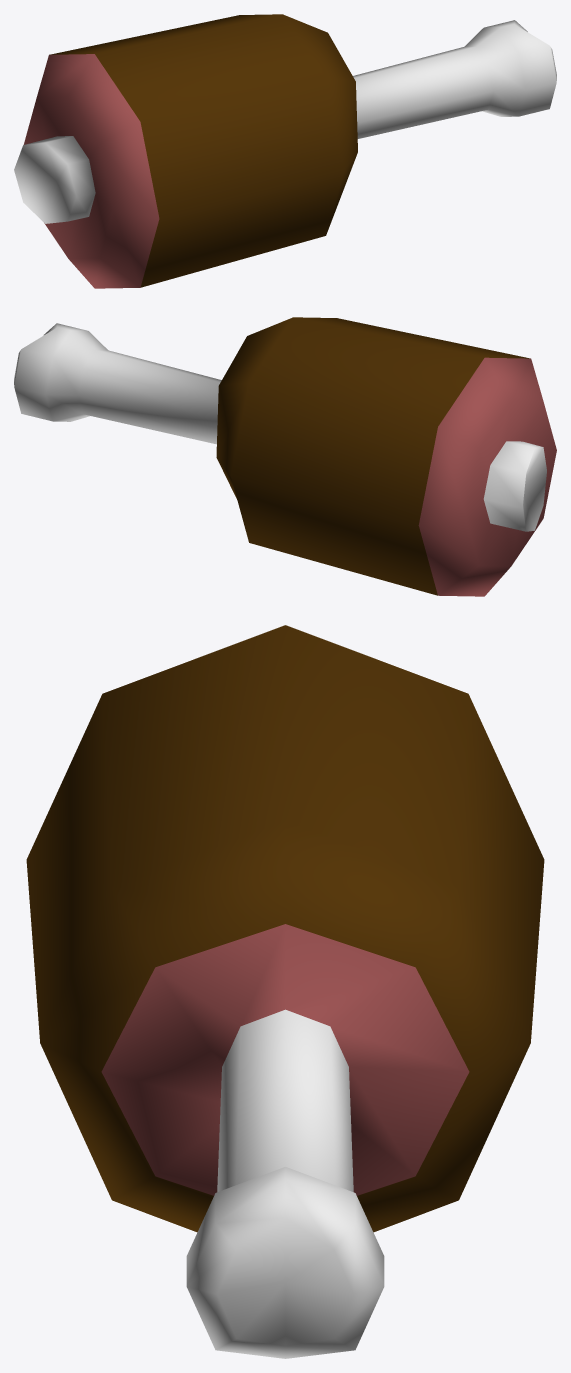
Rendered from oanmeat.fbx.
The picture shows the model from 3 angles, top to bottom: view 1: azimuth 30°, elevation 25°; view 2: azimuth 150°, elevation 25°; view 3: azimuth 270°, elevation 25°; orthographic projection. The views are drawn at different scales.
Parts seen in each view (by area): view 1: pCylinder1; view 2: pCylinder1; view 3: pCylinder1.
Part boxes in pixels (x1,y1,x2,y2): pCylinder1: (14,14,556,288); pCylinder1: (14,317,556,596); pCylinder1: (26,625,544,1358).
Bounding box in the file's own units: 31.45 × 13.98 × 13.98.
